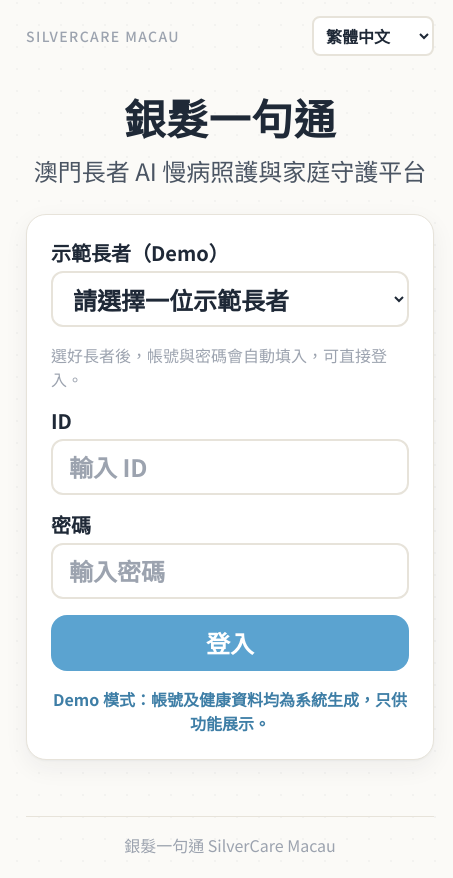
Test: LoginPage（100 Demo 長者） › 錯誤密碼失敗（唔寫 session）
The image size is (453, 878).
Select "陳婆婆，78歲" in the dropdown with test id "demo-elder-select" at (230, 299), box [51,271,409,327]
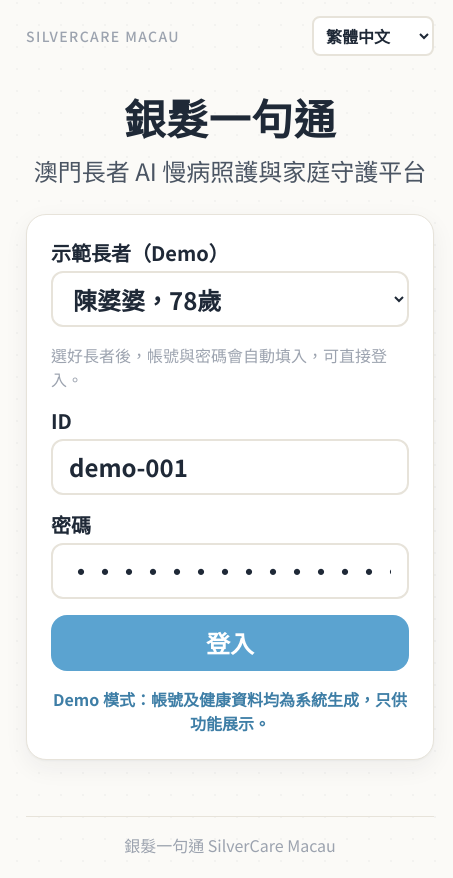
Type "bad" into the password field with test id "demo-login-password" at (230, 571), box [51,543,409,599]
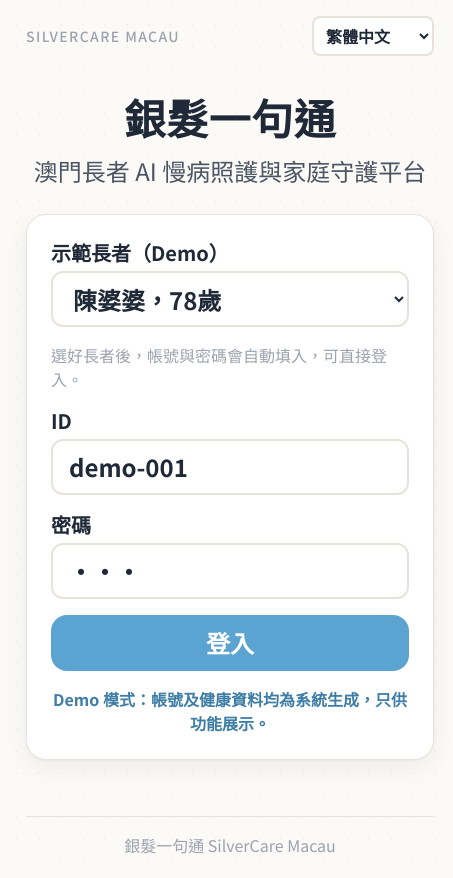
Click the button with test id "demo-login-submit" at (230, 643), box [51,615,409,671]
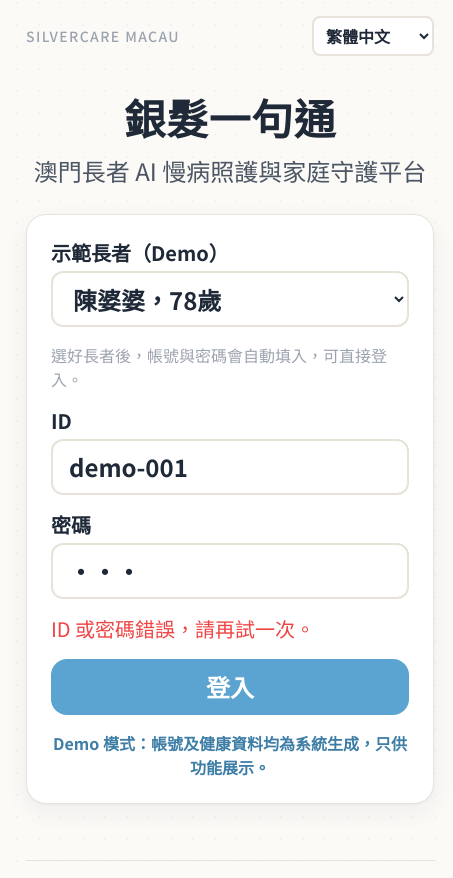
expect the message with test id "demo-login-error" shows "ID 或密碼錯誤": met, box [51,614,315,643]
